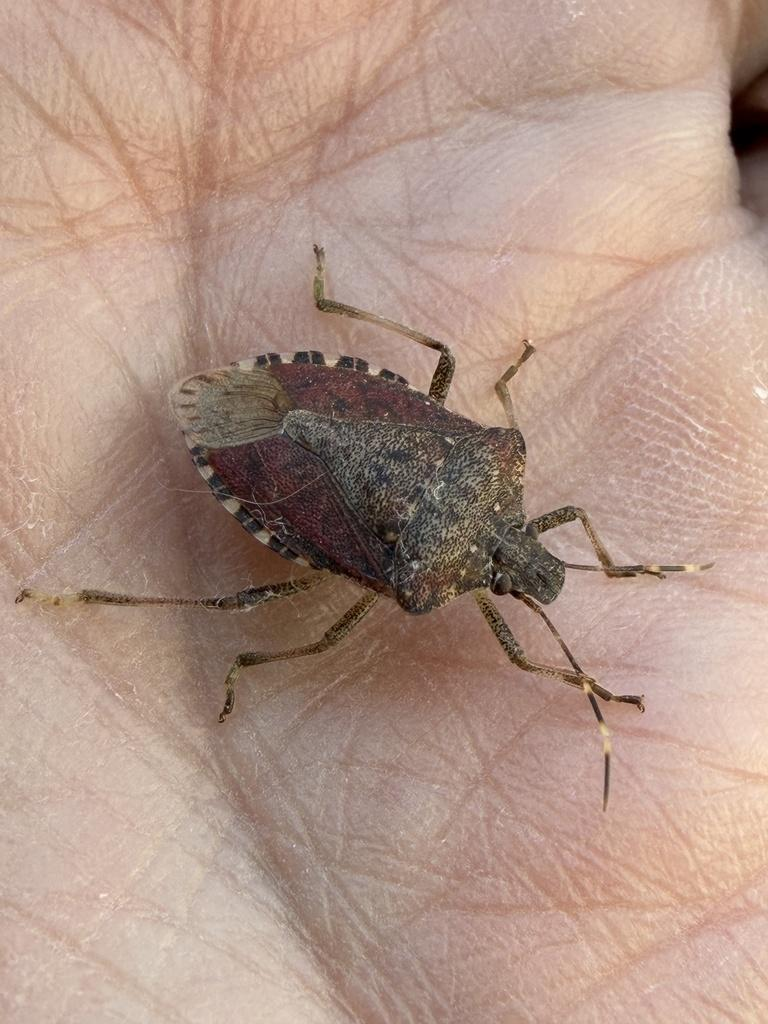stink_bugs: (0, 180, 768, 881)
